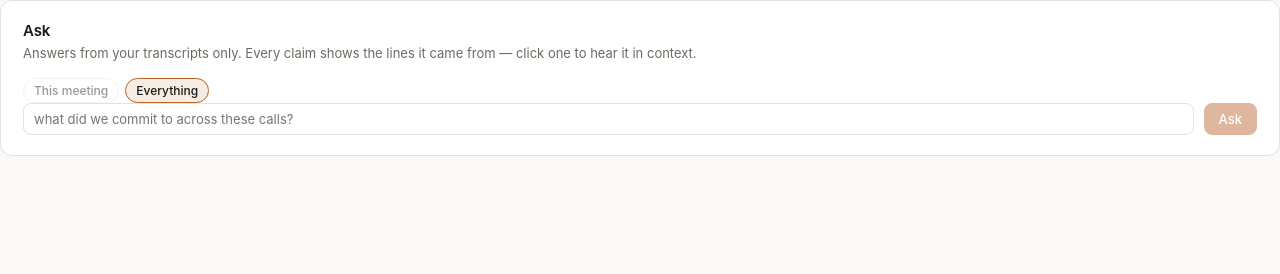
Test: ChatCard › says when citations were invented and dropped
This screenshot has width=1280, height=274.
Type "q" into the field named "ask a question".
click(608, 118); type("q")  # box [23,102,1194,134]
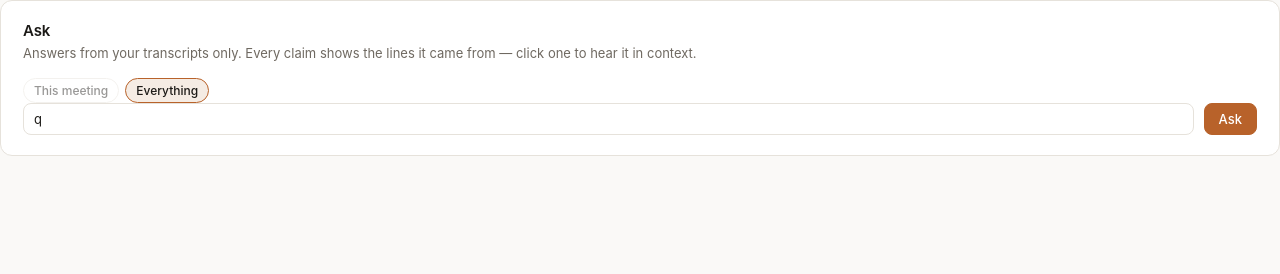
Click the button "Ask".
click(1230, 118)  # box [1204,102,1257,134]
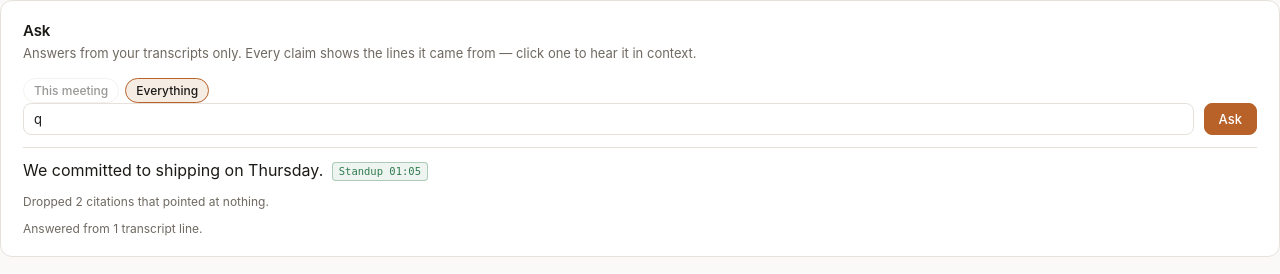
Result: the text "Dropped 2 citations that pointed at nothing." is shown at [23,194,269,208]
